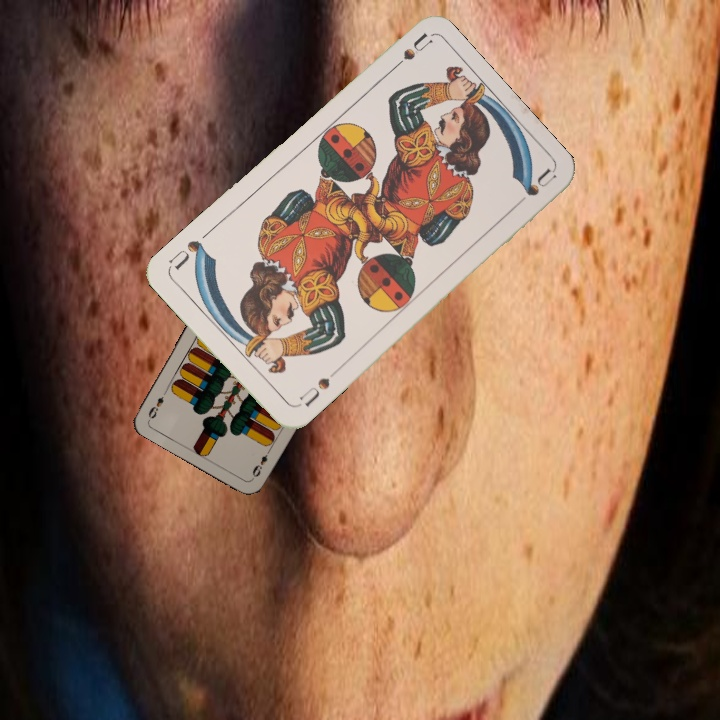E9: (248, 444, 274, 482)
SU: (383, 30, 434, 77), (292, 366, 340, 410)
